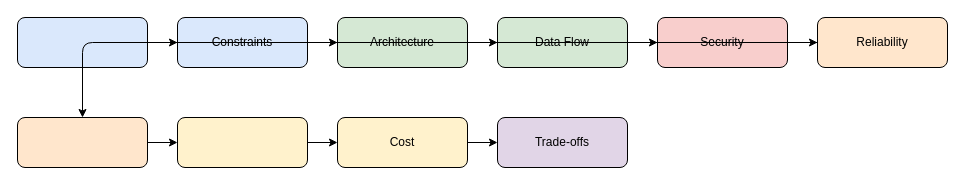
This 965x185 diagram has some shape labels left out. The centre of each missing label's shape, as x and y in pixels:
Operations: (x=242, y=142)
Requirements: (x=82, y=42)
Scalability: (x=82, y=142)
